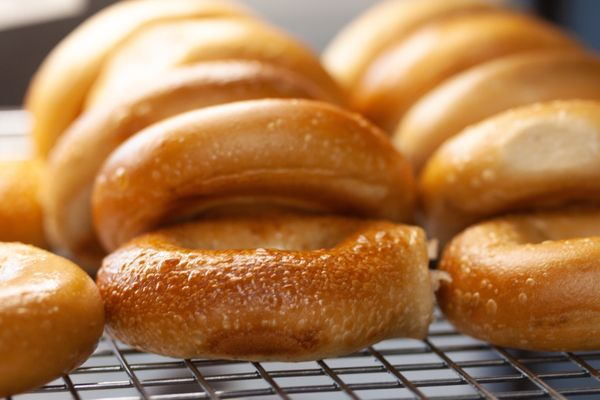salad: (31, 2, 345, 276), (95, 202, 437, 359), (96, 97, 419, 236), (318, 1, 599, 134), (415, 98, 600, 244), (392, 47, 599, 177), (433, 200, 600, 354), (0, 240, 106, 396), (0, 156, 48, 246)
